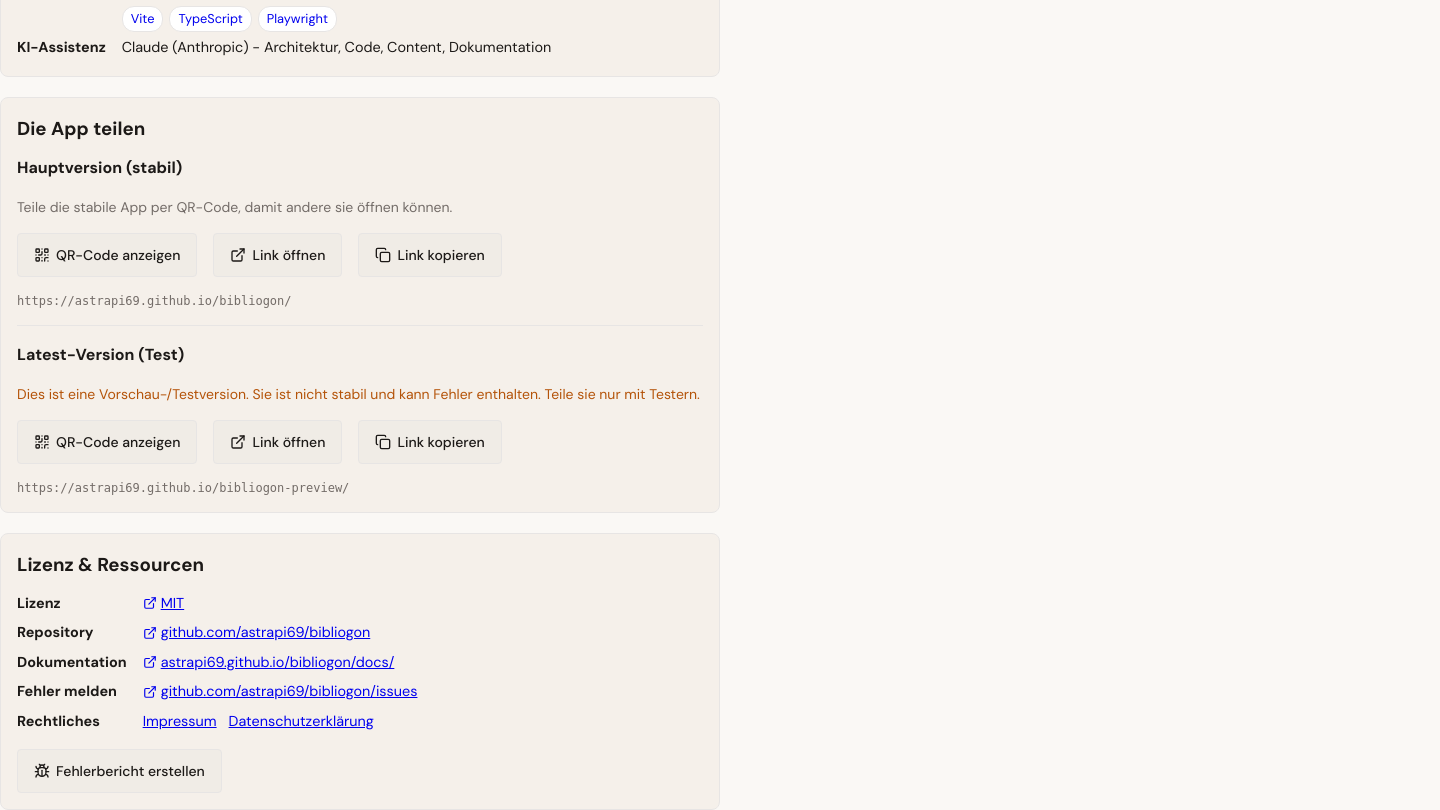
Scenario: AboutSettings › proactive error report (EVT-03) › opens the ErrorReportDialog in manual mode on click
The image size is (1440, 810).
(page scrolled)
Click the button with test id "about-create-report".
click(119, 771)  # box x1=17 y1=749 x2=222 y2=793
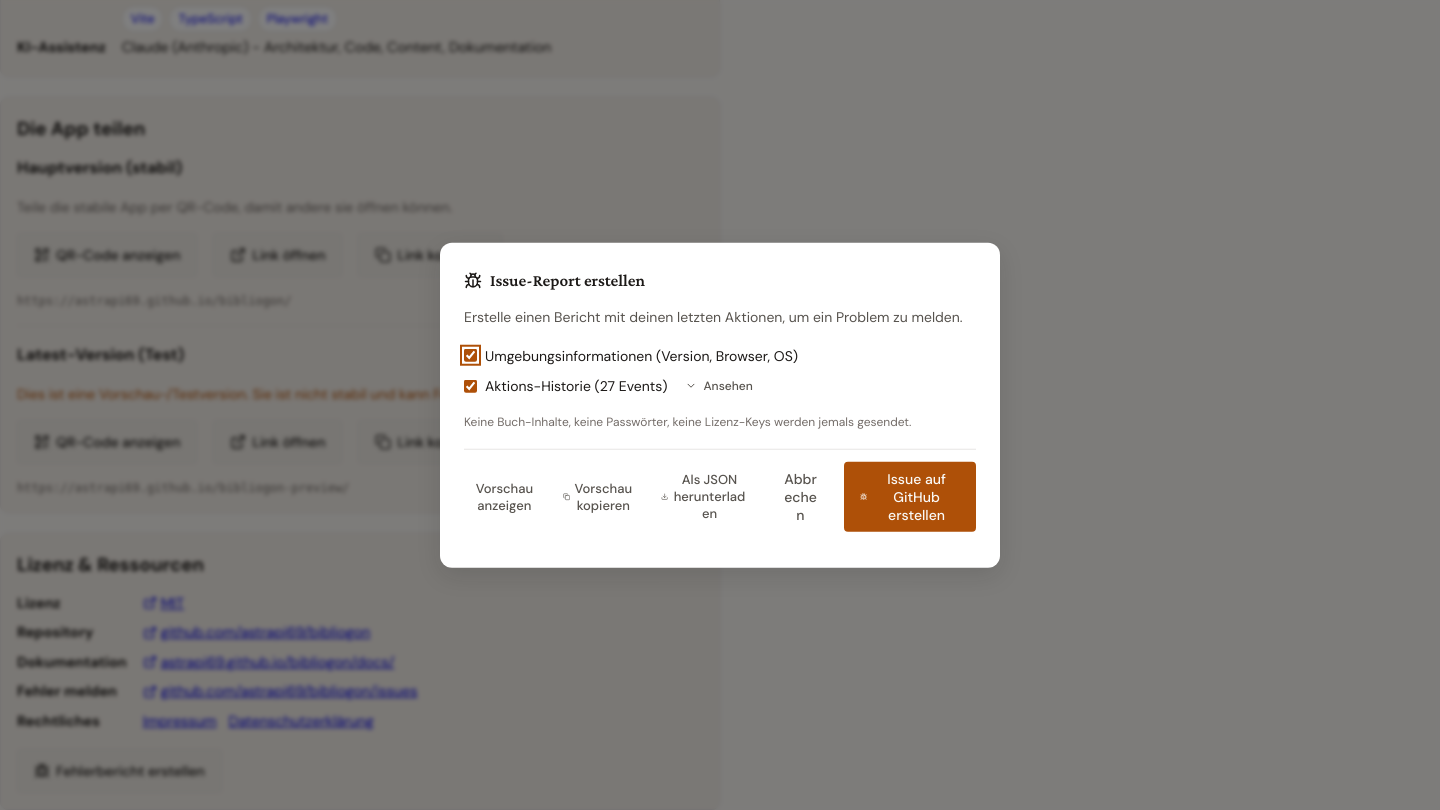
Expected: the button with test id "error-report-download-json" is shown, x1=651 y1=461 x2=757 y2=531
Expected: the text "Erstelle einen Bericht mit deinen letzten Aktionen" is shown, x1=464 y1=308 x2=963 y2=326
